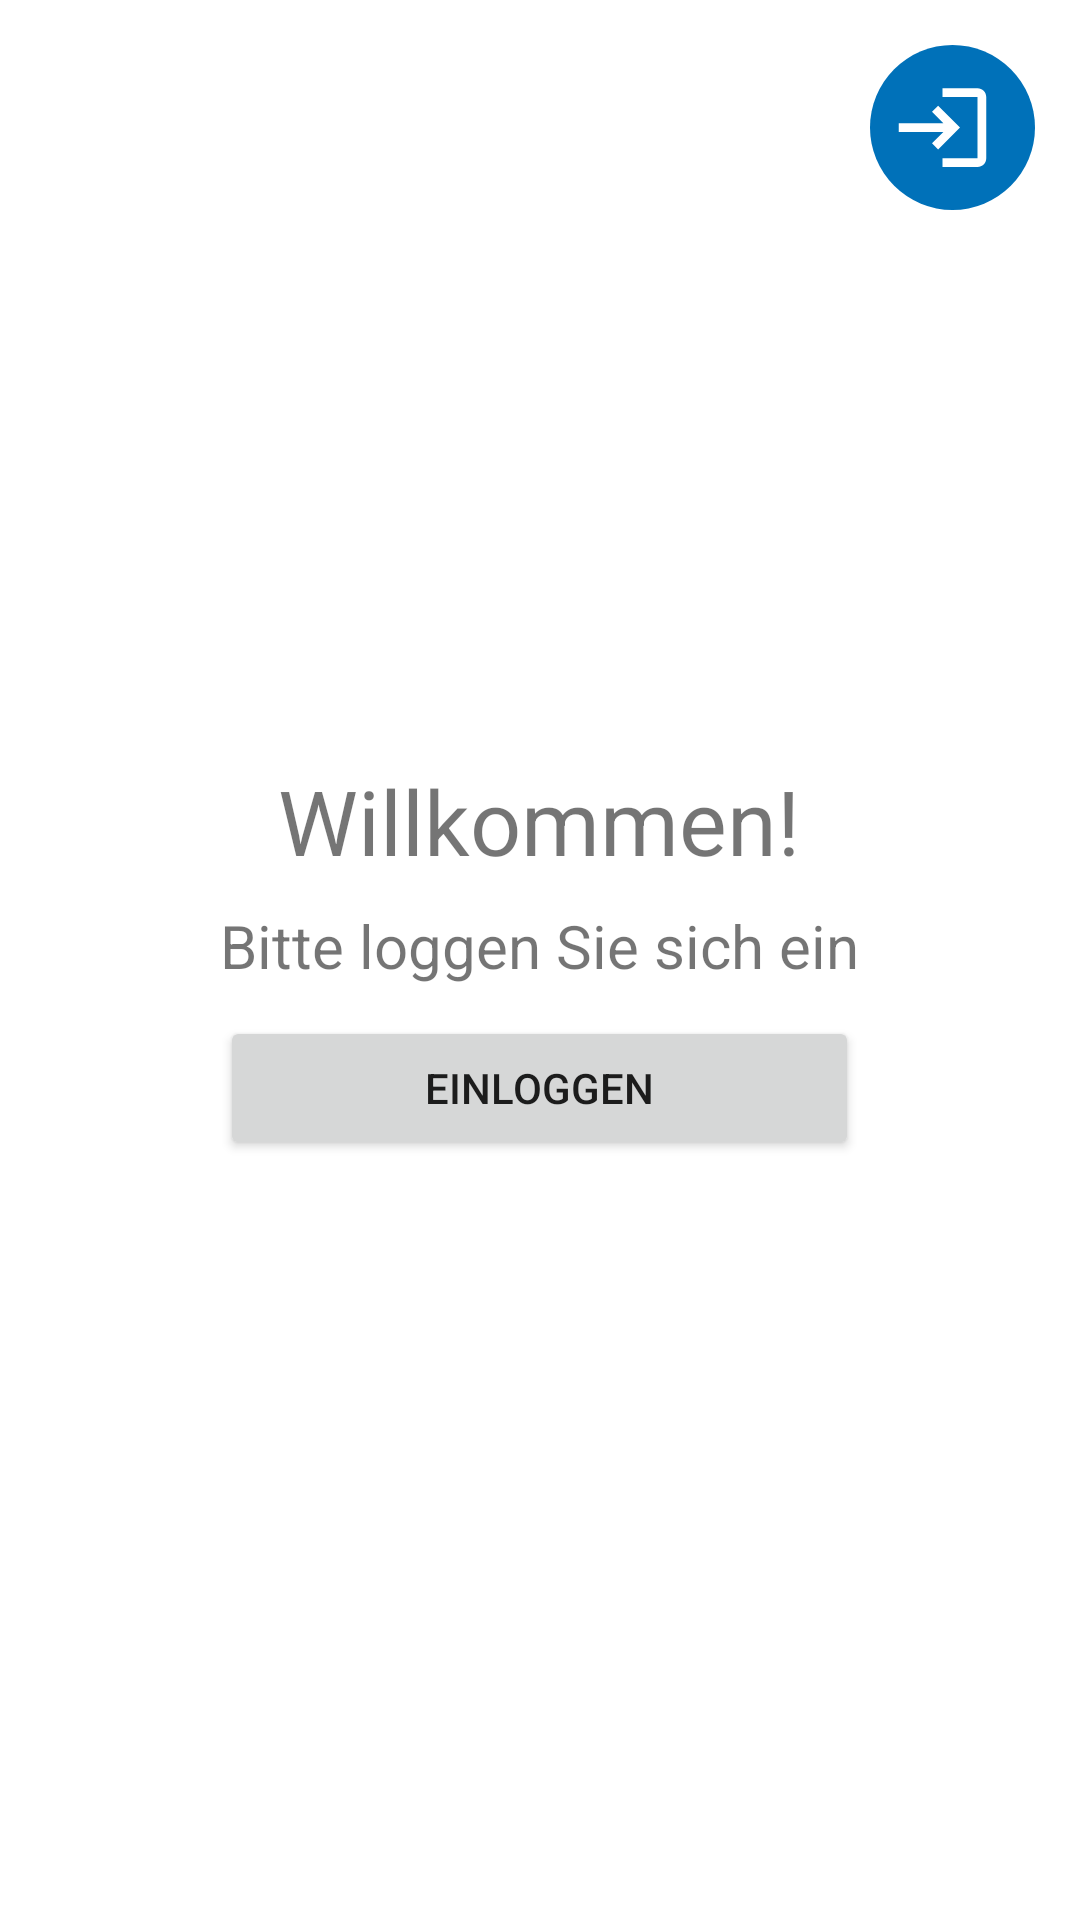

Named icons in this screenshot (1080px×1920px) and their bounding boxes, (x1, y1, x2, y2):
Login Button: (870, 45, 1035, 210)
